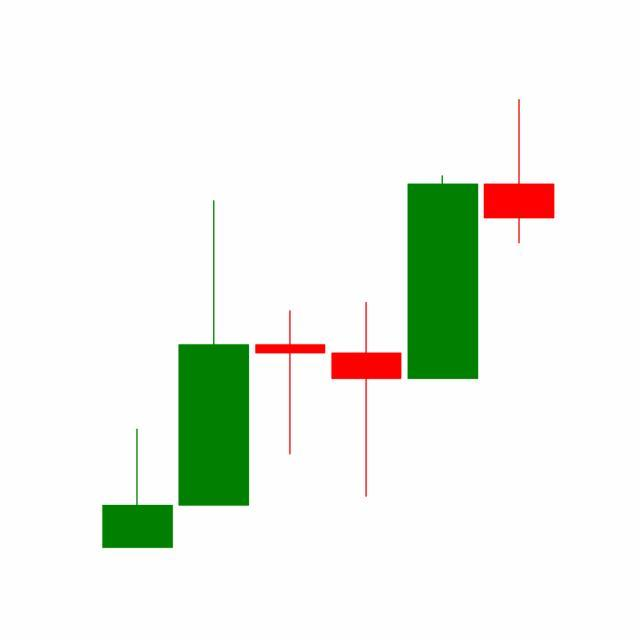Marubozu: (404, 173, 482, 381)
